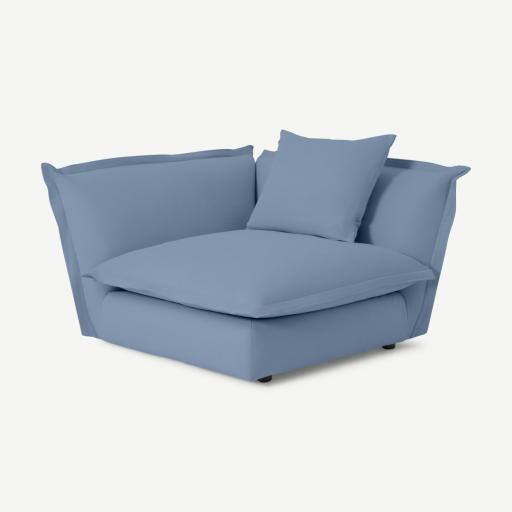back_cushion: (247, 130, 395, 242)
base: (83, 272, 439, 380), (432, 181, 455, 270)
left_arm: (356, 158, 469, 339)
one-seater: (0, 0, 511, 512)
right_arm: (42, 146, 255, 338)
seat_cushion: (89, 230, 433, 318)
